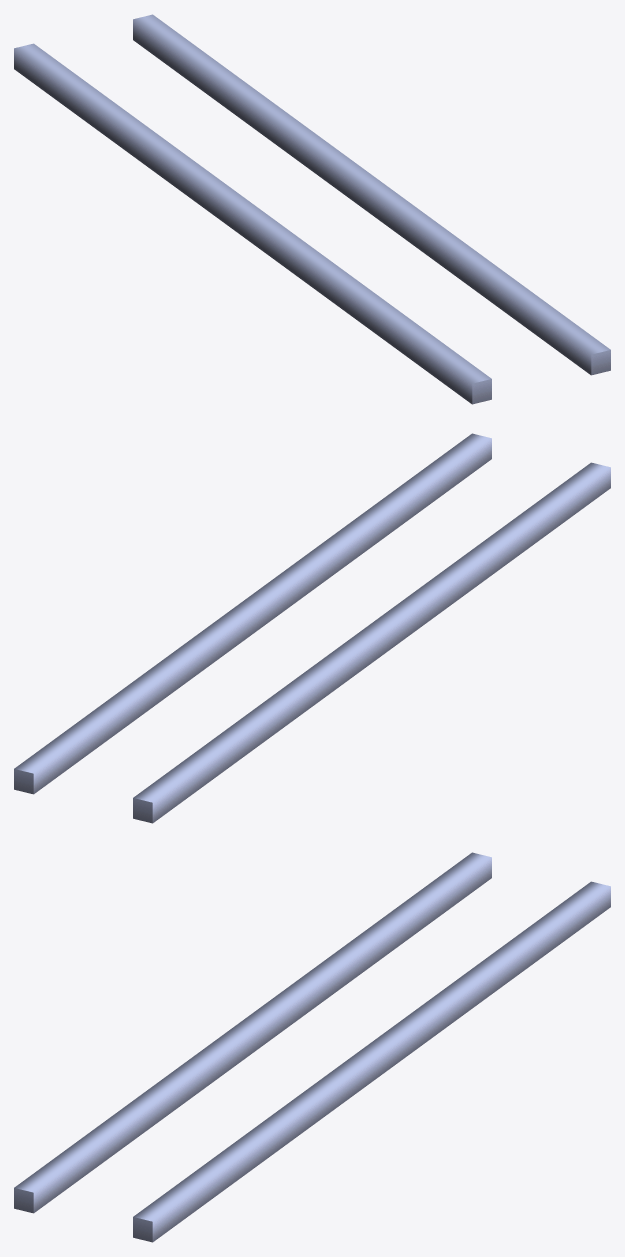
File: kenney-train-railroad-rail-straight.glb
The picture shows the model from 3 angles, top to bottom: view 1: azimuth 30°, elevation 25°; view 2: azimuth 150°, elevation 25°; view 3: azimuth 330°, elevation 25°; orthographic projection.
Parts seen in each view (by area): view 1: railroad-rail-straight; view 2: railroad-rail-straight; view 3: railroad-rail-straight.
Part boxes in pixels (<box>): railroad-rail-straight: <box>14,14,610,404</box>; railroad-rail-straight: <box>14,433,610,823</box>; railroad-rail-straight: <box>14,852,610,1242</box>.
Size of the model in its own units: 0.6997 by 0.1001 by 4.
1 material, 1 textured.
